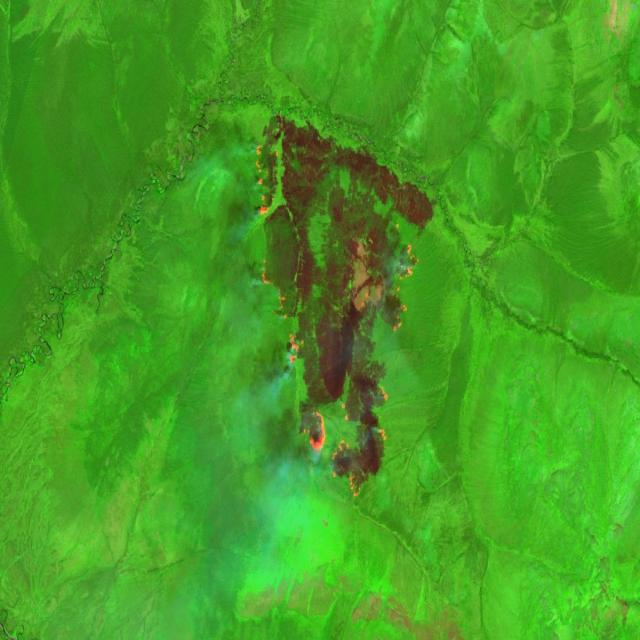fire: (252, 110, 422, 502)
